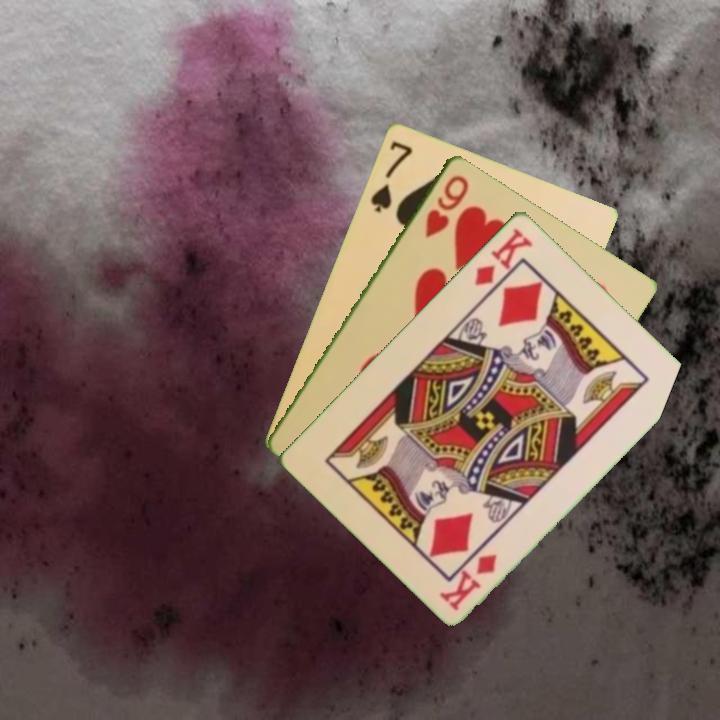7s: (366, 137, 415, 215)
9h: (421, 171, 472, 240)
Kd: (470, 224, 536, 288), (436, 549, 500, 614)
